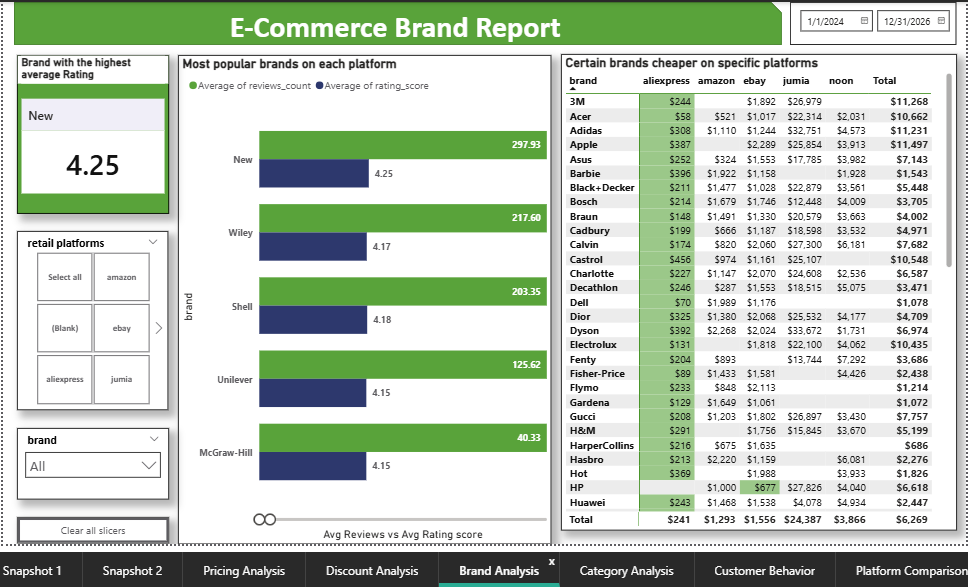

The page's visual inventory and layout, read from the dashboard file:
{"tool":"powerbi","page":{"name":"Brand Analysis","canvas":[1280,720],"ordinal":4},"visuals":[{"type":"shape","box":[14.3,0,1020.3,57.1],"z":0},{"type":"slicer","fields":{"Values":["ecommerce_dataset.retail platforms"]},"box":[18.4,304.5,200.8,237.6],"z":1000},{"type":"actionButton","box":[18.4,684.3,202.5,35.1],"z":2000},{"type":"clusteredBarChart","title":"Most popular brands on each platform","fields":{"Category":["ecommerce_dataset.brand"],"Y":["Avg(ecommerce_dataset.reviews_count)","Avg(ecommerce_dataset.rating_score)"]},"box":[233,70.2,495.9,649.8],"z":3000},{"type":"cardVisual","title":"Brand with the highest average Rating","fields":{"Rows":["ecommerce_dataset.brand"],"Data":["Avg(ecommerce_dataset.rating_score)"]},"box":[18.4,70.3,202.5,210.8],"z":4000},{"type":"slicer","fields":{"Values":["ecommerce_dataset.brand"]},"box":[18.4,565.5,202.5,95.4],"z":5000},{"type":"pivotTable","title":"Certain brands cheaper on specific platforms","fields":{"Rows":["ecommerce_dataset.brand"],"Columns":["ecommerce_dataset.retail platforms"],"Values":["KPI Measures.average_price"]},"box":[741.9,69.7,525.6,632.8],"z":6000},{"type":"slicer","fields":{"Values":["Date Table.Date"]},"box":[1045.6,0,221.1,56.8],"z":7000}]}

Visuals, with their boxes on the page's 1280x720 design canvas (x1, y1, x2, y2). These are canvas units, not pixel positions in the 968x587 screenshot, which may show the page scaled, cropped or inside an application window:
shape: locate(14, 0, 1035, 57)
slicer - ecommerce_dataset.retail platforms: locate(18, 304, 219, 542)
actionButton: locate(18, 684, 221, 719)
"Most popular brands on each platform" clusteredBarChart: locate(233, 70, 729, 720)
"Brand with the highest average Rating" cardVisual: locate(18, 70, 221, 281)
slicer - ecommerce_dataset.brand: locate(18, 566, 221, 661)
"Certain brands cheaper on specific platforms" pivotTable: locate(742, 70, 1268, 702)
slicer - Date Table.Date: locate(1046, 0, 1267, 57)
